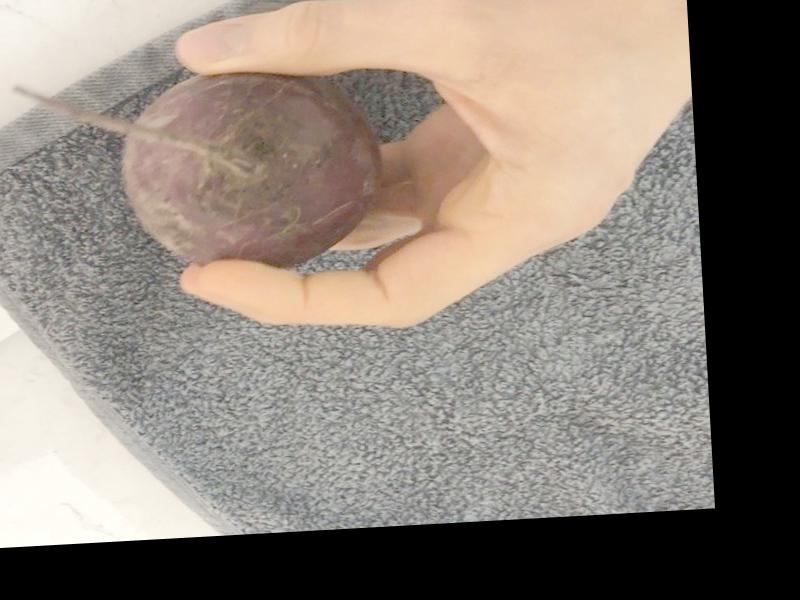Beet: (11, 63, 385, 282)
